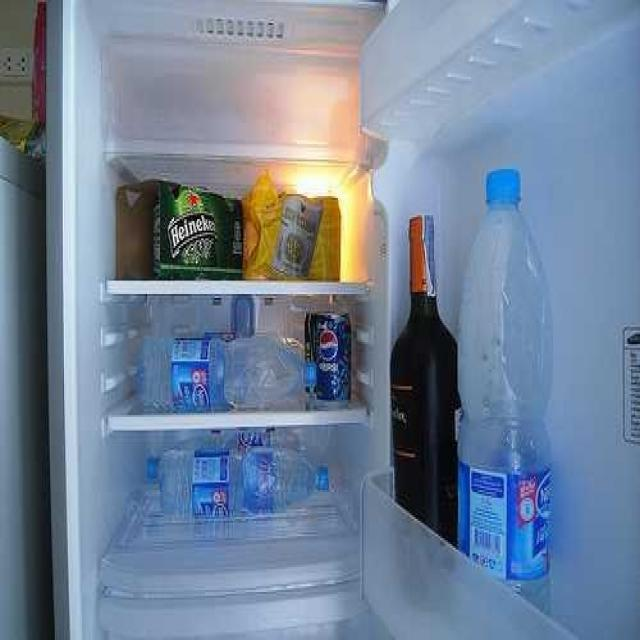refrigerator: (26, 0, 640, 640)
